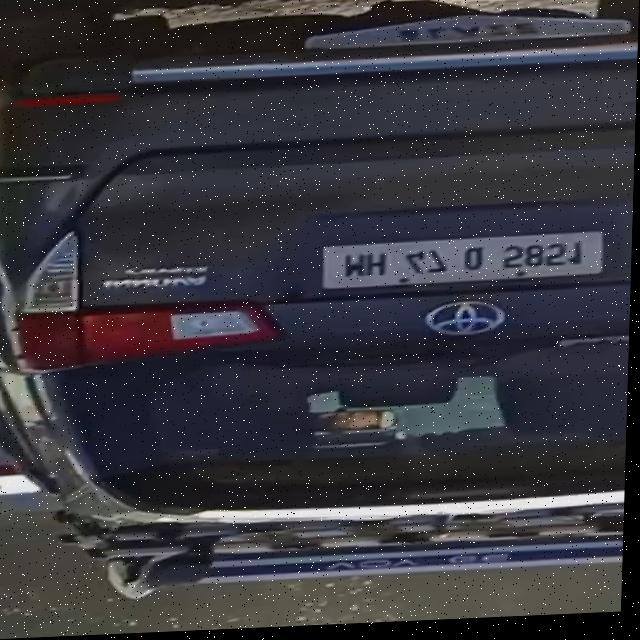plate: (310, 231, 613, 302)
